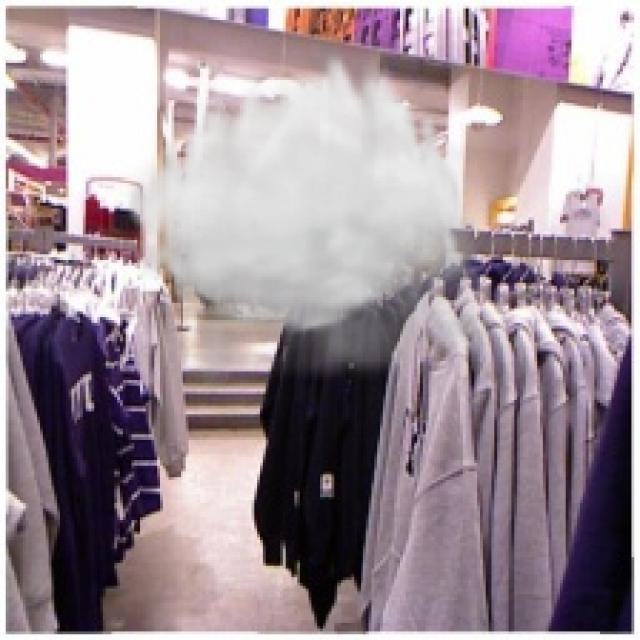Smoke: (122, 46, 538, 403)
